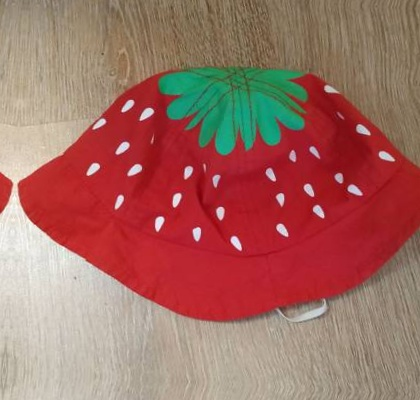Hat: (19, 32, 420, 342), (0, 7, 12, 316)
